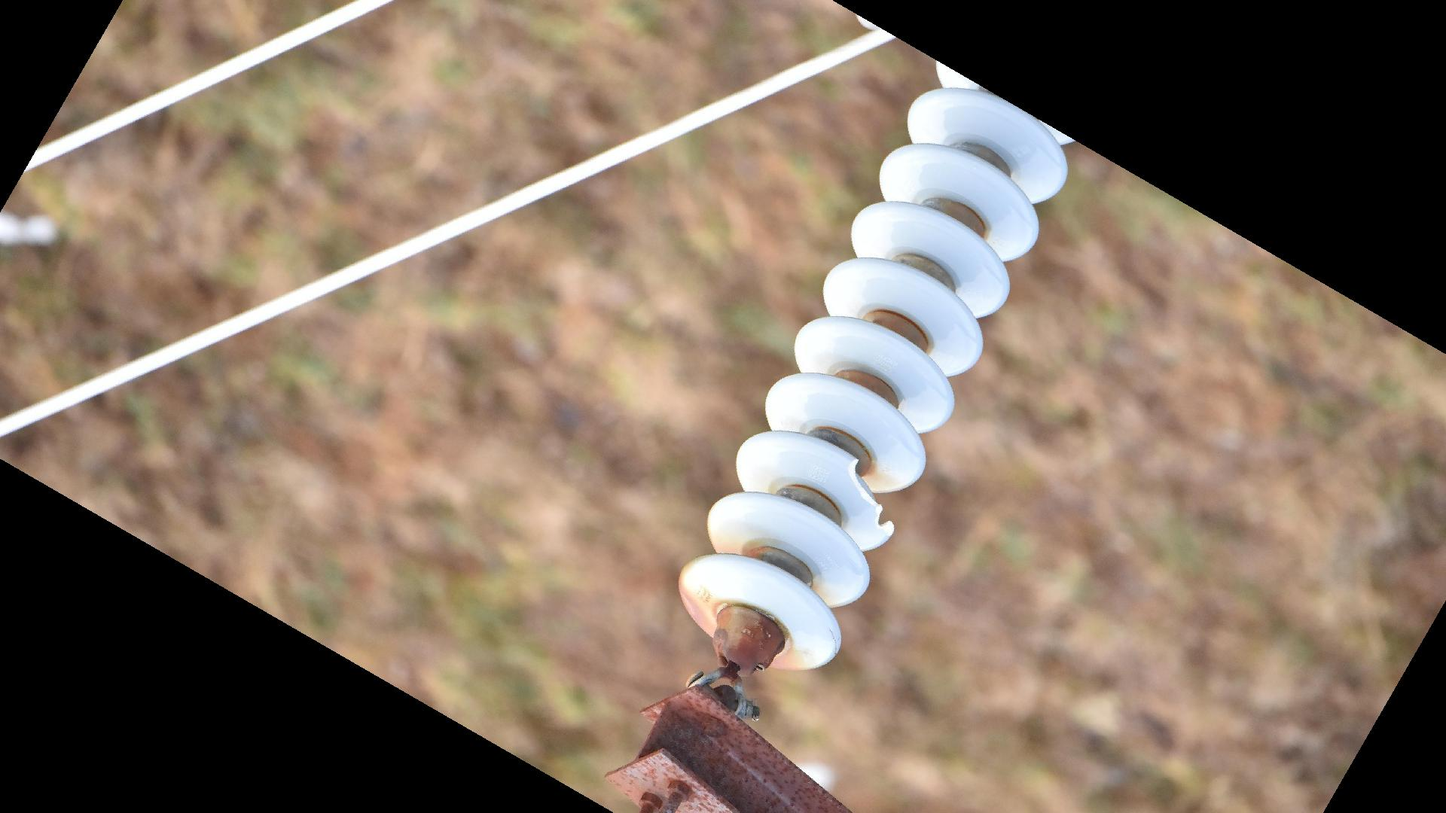insulator: (669, 52, 1088, 680)
insulator_breakage: (838, 450, 905, 539)
